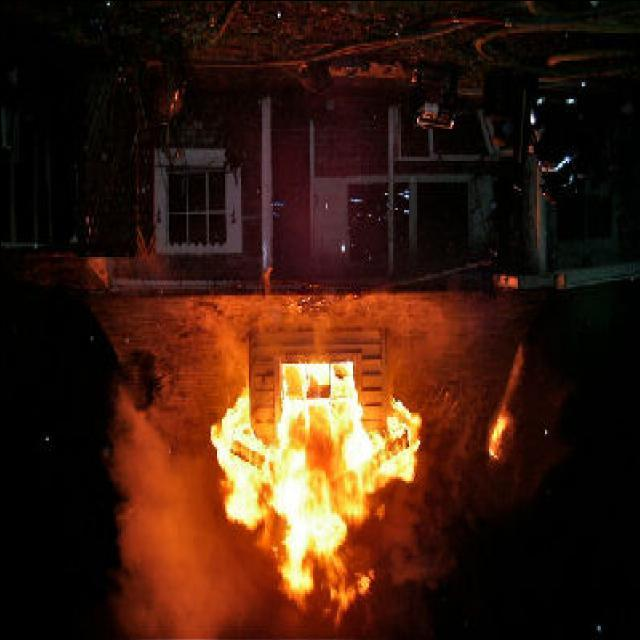Fire: (211, 361, 419, 604)
